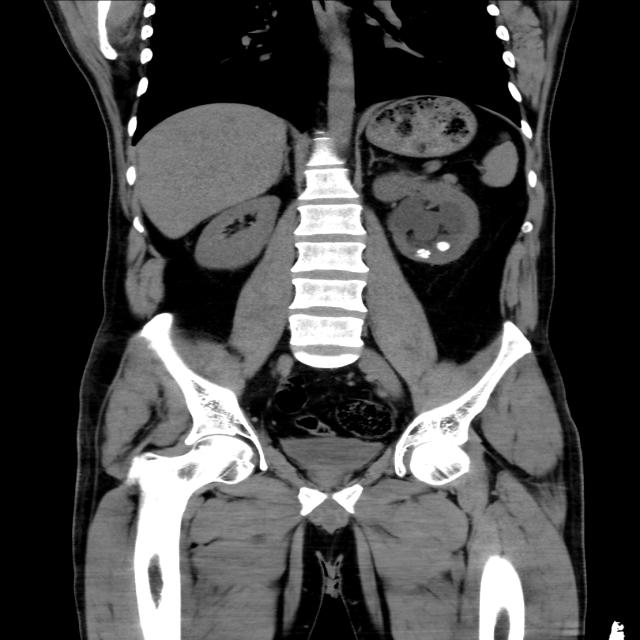kidneystone: (435, 241, 450, 251), (416, 249, 430, 258)
